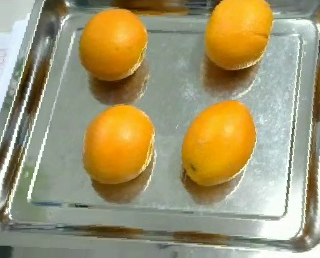Orange: (180, 101, 257, 186), (81, 103, 154, 185), (78, 8, 148, 81), (204, 1, 274, 71)
